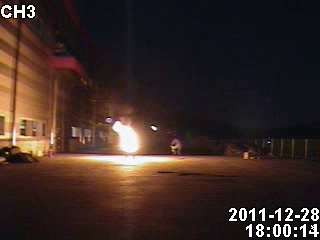fire: (115, 112, 142, 154)
